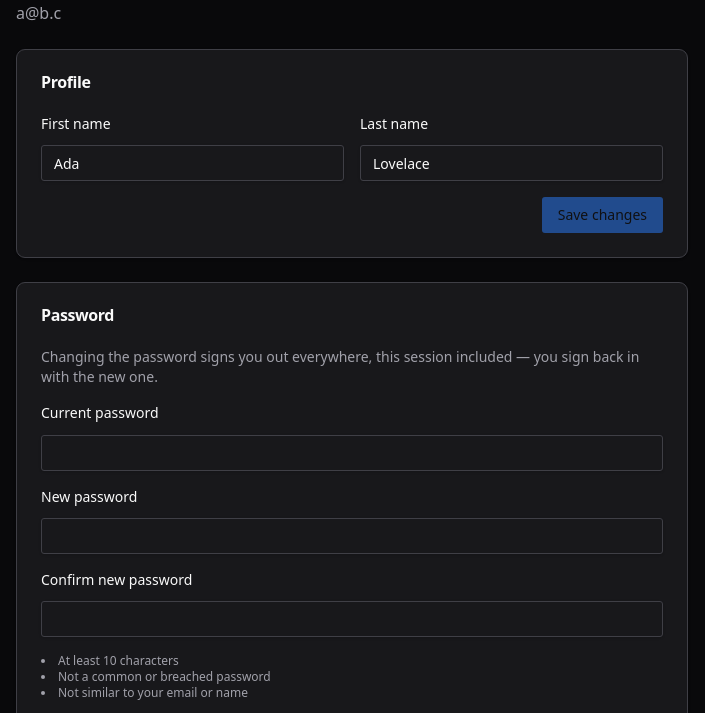
AccountPage › surfaces a 409 from a stale passwordless state as a form error
Step 1. Type "old-password-123" into the password field labelled "Current password" → point(352, 452), box [41,434,663,470]
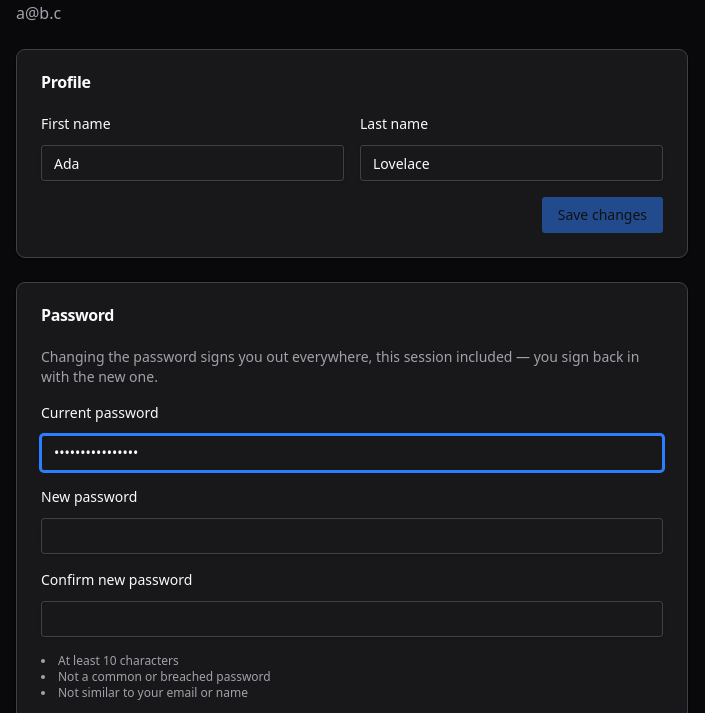
Step 2. Type "brand-new-pass-456" into the password field labelled "New password" → point(352, 536), box [41,518,663,554]
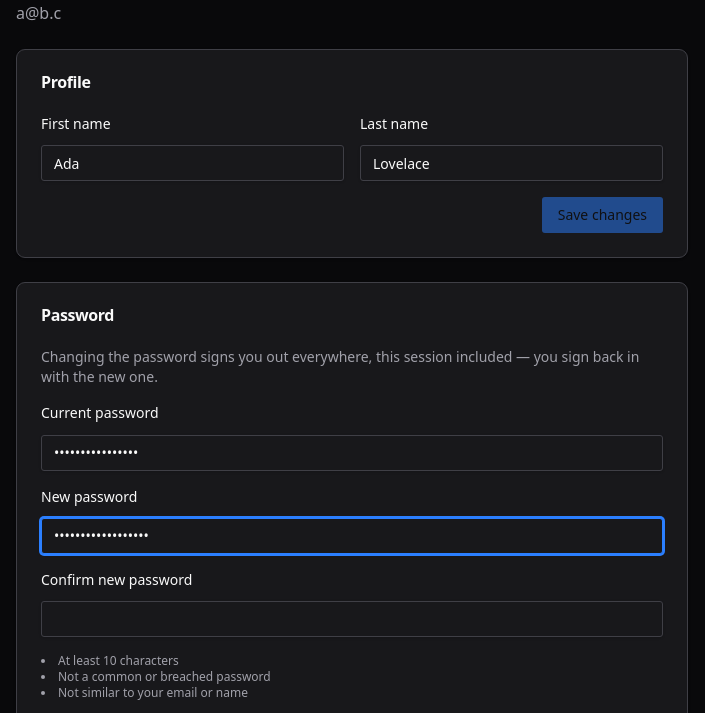
Step 3. Type "brand-new-pass-456" into the password field labelled "Confirm new password" → point(352, 619), box [41,601,663,637]
(page scrolled)
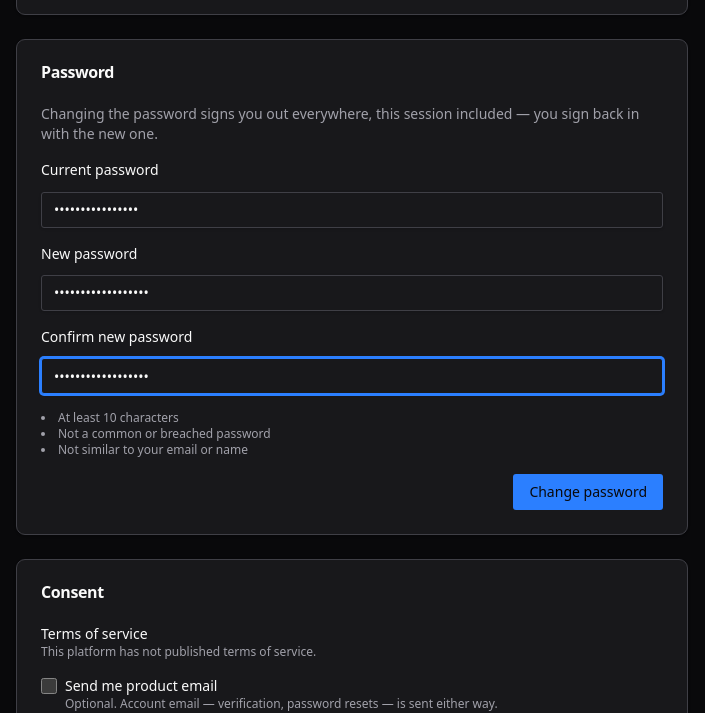
Step 4. Click the button "Change password" → point(588, 492), box [513,474,663,510]
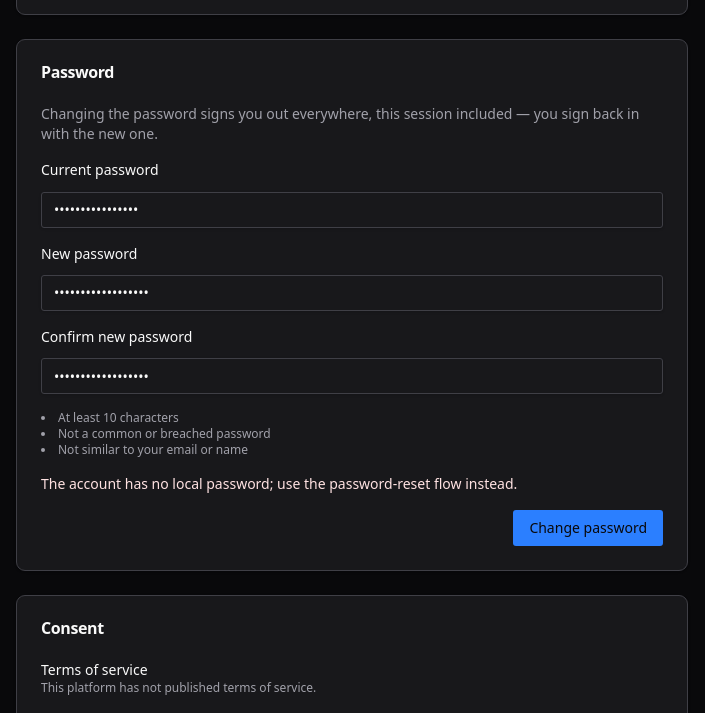
Result: the text "The account has no local password; use the password-reset flow instead." is shown at [41,474,517,493]
